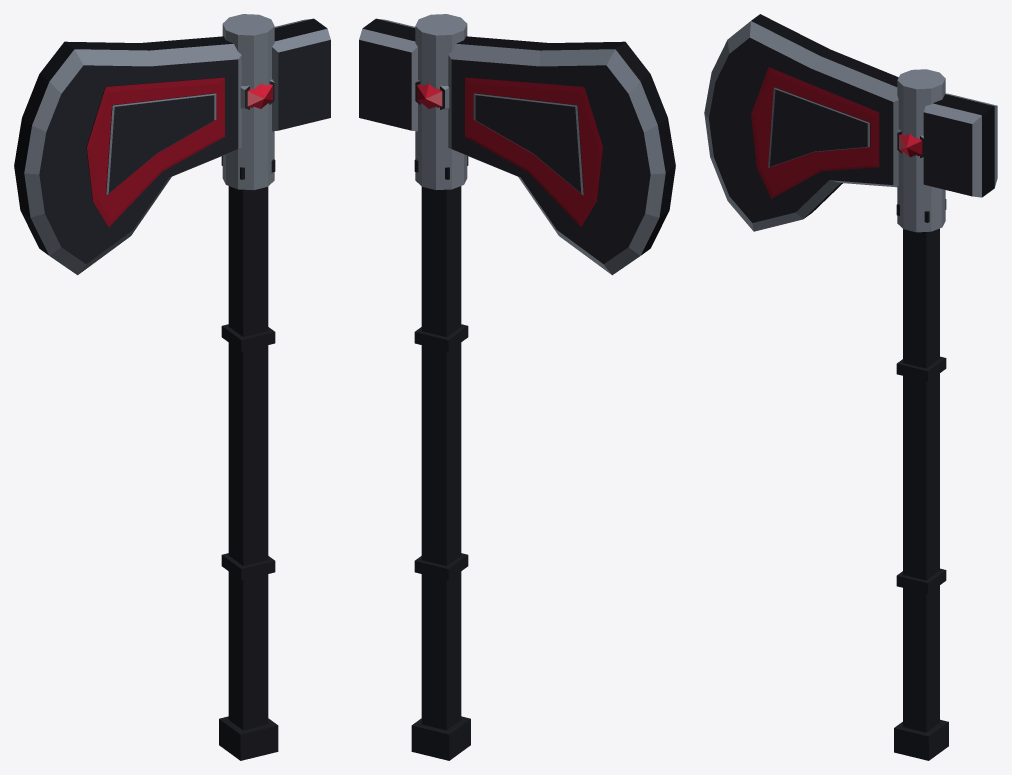
File: endgame_axe_smooth.obj
3 views of the same model, side by side, from view 1: azimuth 30°, elevation 25°; view 2: azimuth 150°, elevation 25°; view 3: azimuth 330°, elevation 25° (orthographic). The views are drawn at different scales.
Visible parts, largest first — view 1: endgame_axe; view 2: endgame_axe; view 3: endgame_axe.
Part boxes in pixels (bbox=[...]): endgame_axe: bbox=[14, 14, 330, 760]; endgame_axe: bbox=[359, 14, 675, 760]; endgame_axe: bbox=[704, 14, 997, 760].
Size of the model in its own units: 0.6 by 1.42 by 0.1087.
